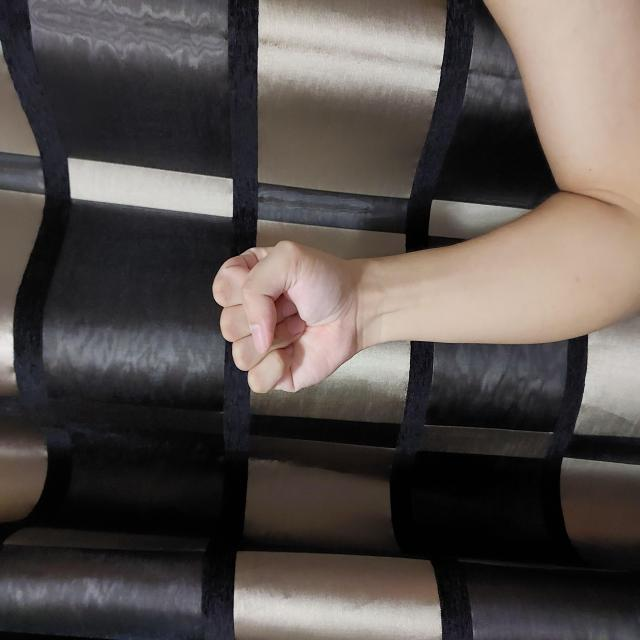S: (246, 211, 402, 358)
